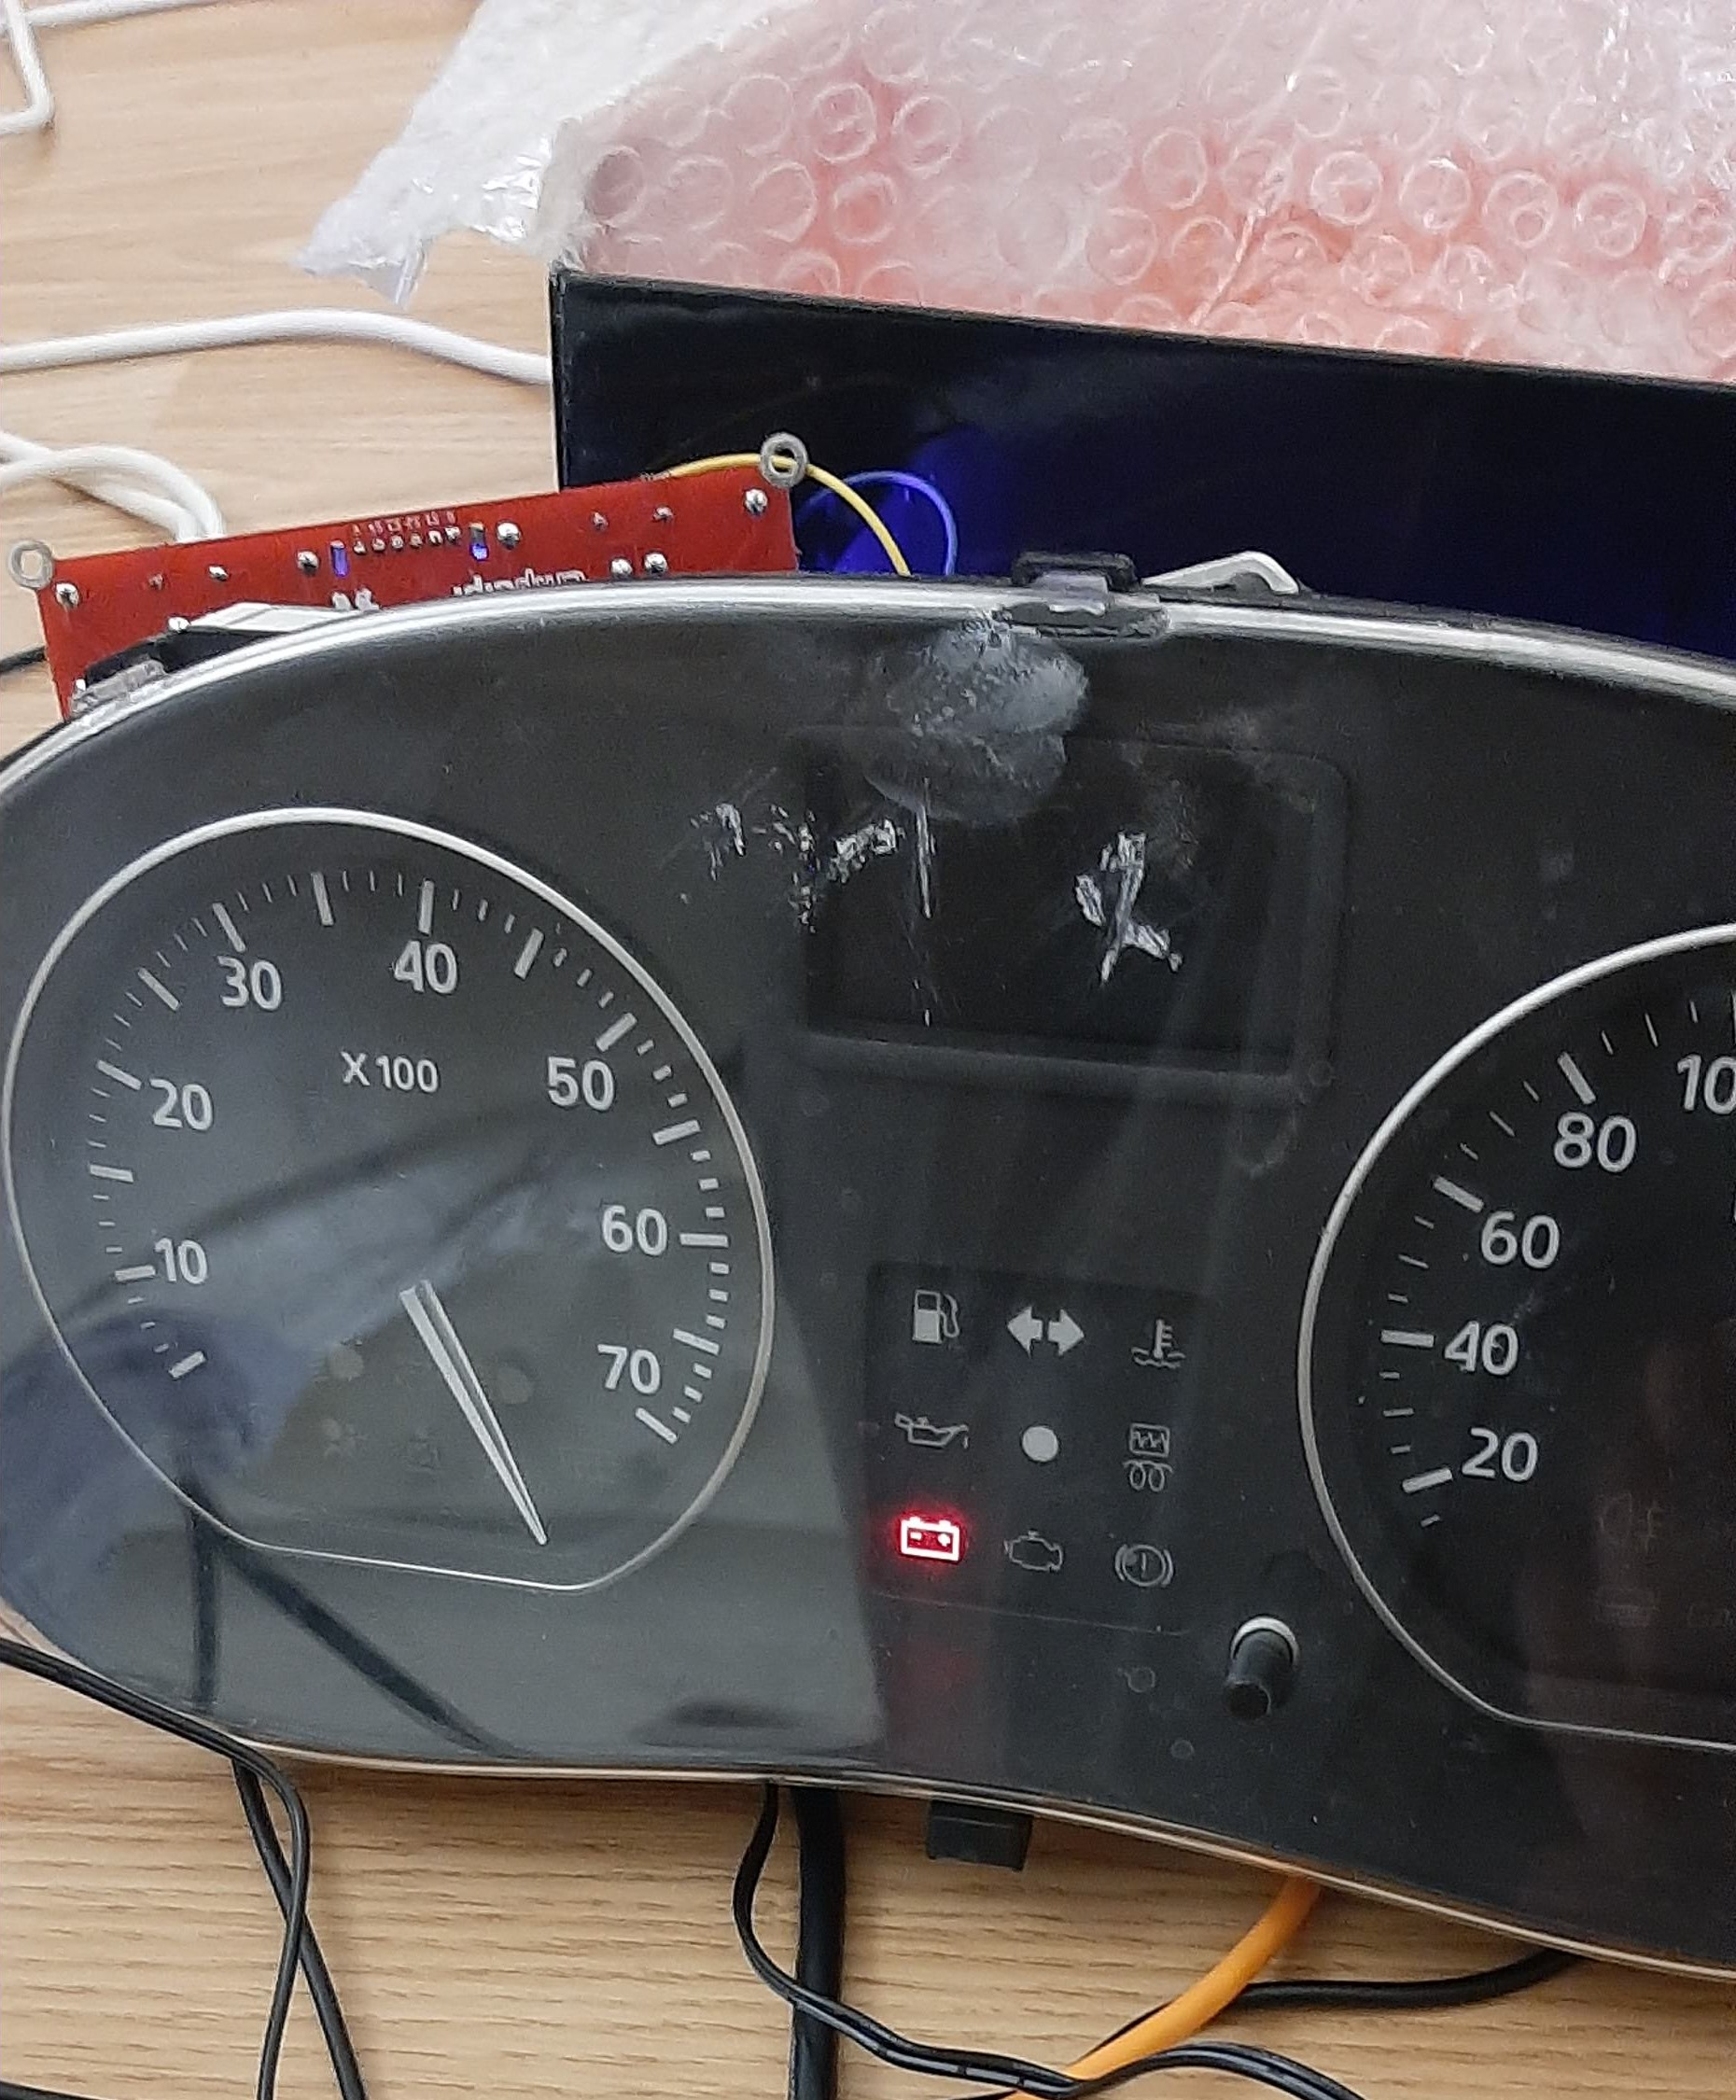accomulator27: (893, 1507, 970, 1570)
